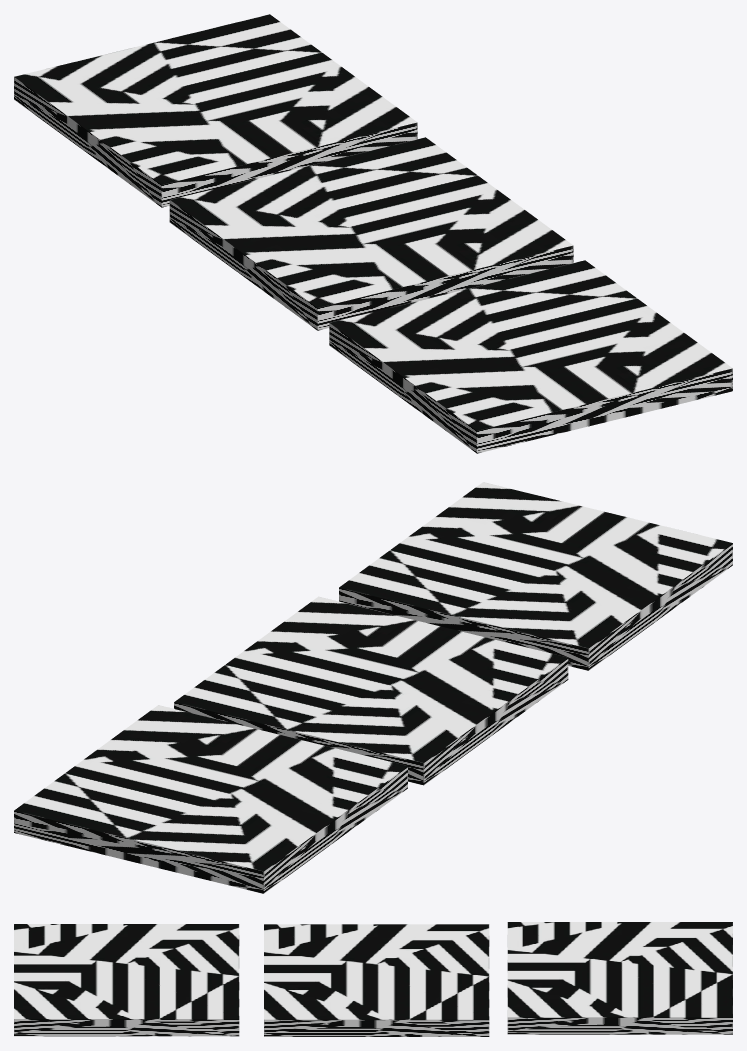
3 views of the same model, one above another, from view 1: azimuth 30°, elevation 25°; view 2: azimuth 150°, elevation 25°; view 3: azimuth 270°, elevation 25° (orthographic). The views are drawn at different scales.
Visible parts, largest first — view 1: Cube.039; view 2: Cube.039; view 3: Cube.039.
Boxes of the visible parts, left/top/right/bottom form: Cube.039: left=14, top=14, right=732, bottom=453; Cube.039: left=14, top=482, right=732, bottom=893; Cube.039: left=14, top=922, right=732, bottom=1036.
Size of the model in its own units: 2.07 by 0.2199 by 6.39.
1 material, 1 textured.
